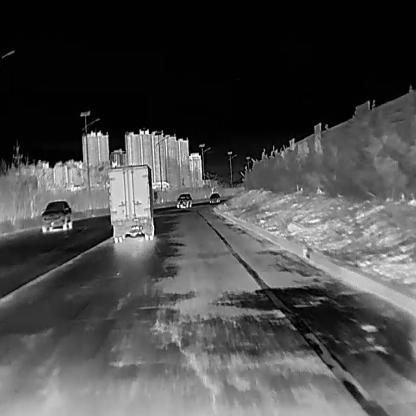car: (106, 163, 156, 242), (40, 200, 72, 231), (175, 192, 192, 206), (209, 192, 220, 202)
